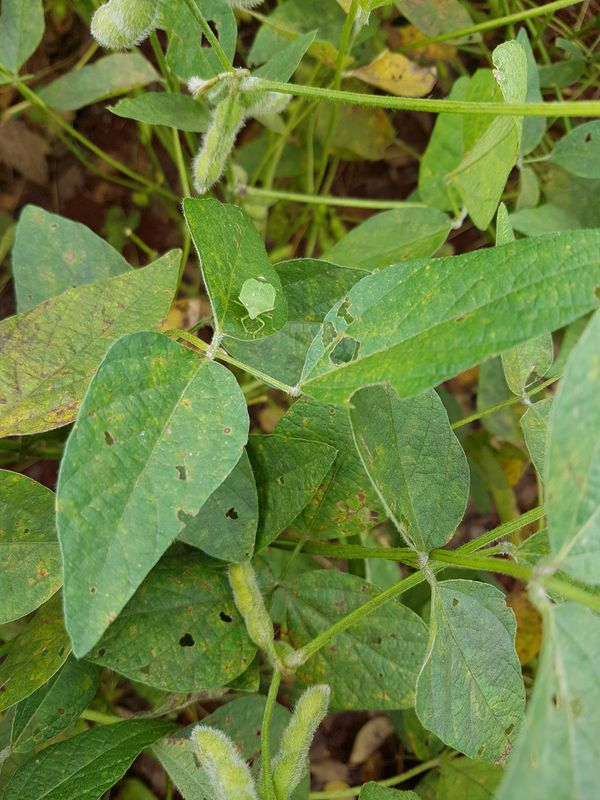Nezara_viridula_adulto: (217, 266, 289, 342)
